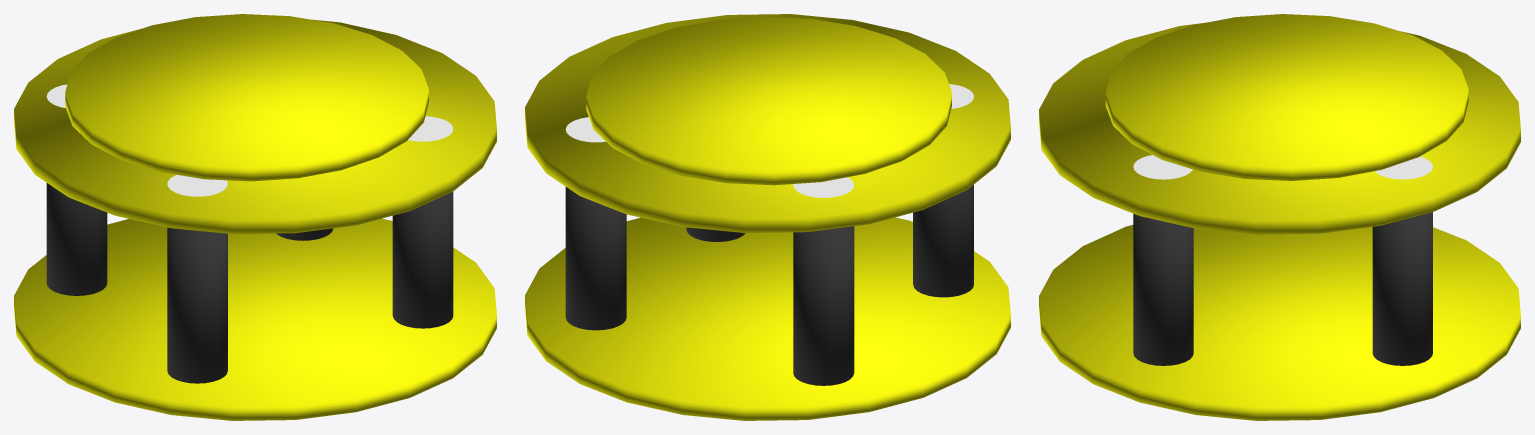
The model's file is JntBase.dae.
3 views of the same model, side by side, from view 1: azimuth 30°, elevation 25°; view 2: azimuth 150°, elevation 25°; view 3: azimuth 270°, elevation 25° (orthographic).
Visible parts, largest first — view 1: group_0 (×9); view 2: group_0 (×10); view 3: group_0 (×8).
Part boxes in pixels (x1,y1,x2,y2): group_0 (×9): (14,14,496,420); group_0 (×10): (525,14,1010,420); group_0 (×8): (1039,14,1520,420).
Size of the model in its own units: 1.51 by 1.51 by 0.7796.
